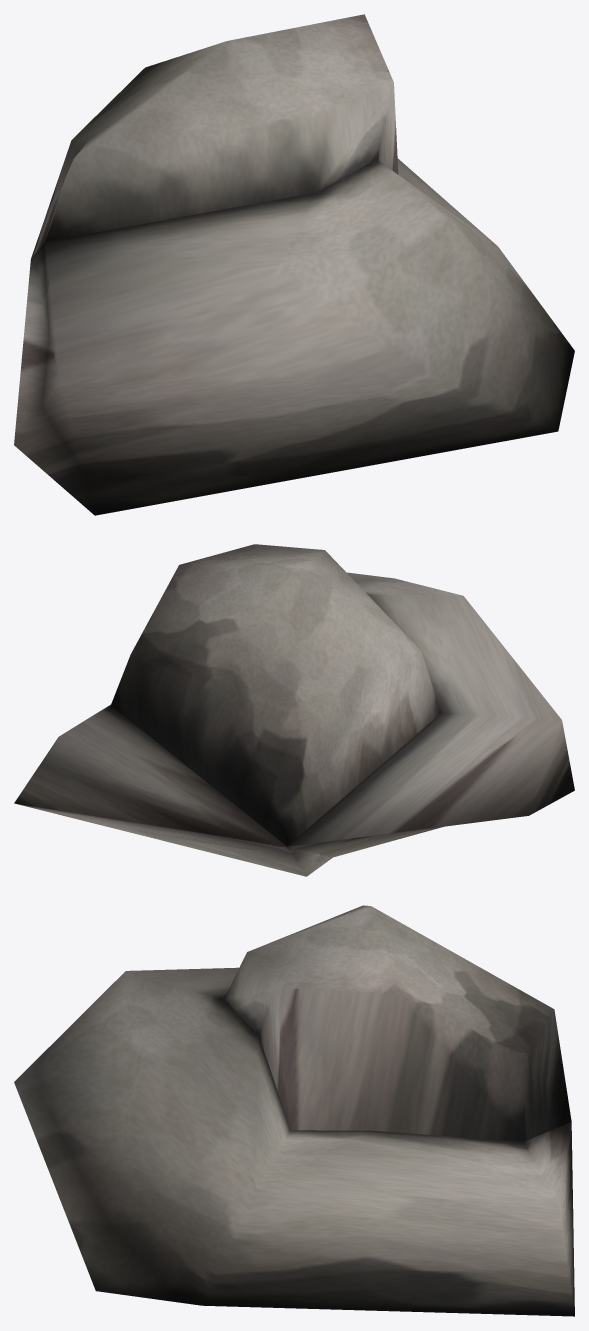
The model's file is rock_plain_2m.DAE.
The picture shows the model from 3 angles, top to bottom: view 1: azimuth 30°, elevation 25°; view 2: azimuth 150°, elevation 25°; view 3: azimuth 270°, elevation 25°; orthographic projection. The views are drawn at different scales.
Parts seen in each view (by area): view 1: Box01; view 2: Box01; view 3: Box01.
Part boxes in pixels (<box>): Box01: <box>14,14,574,515</box>; Box01: <box>14,544,574,876</box>; Box01: <box>14,905,574,1316</box>.
Bounding box in the file's own units: 3.19 × 2.33 × 3.09.
